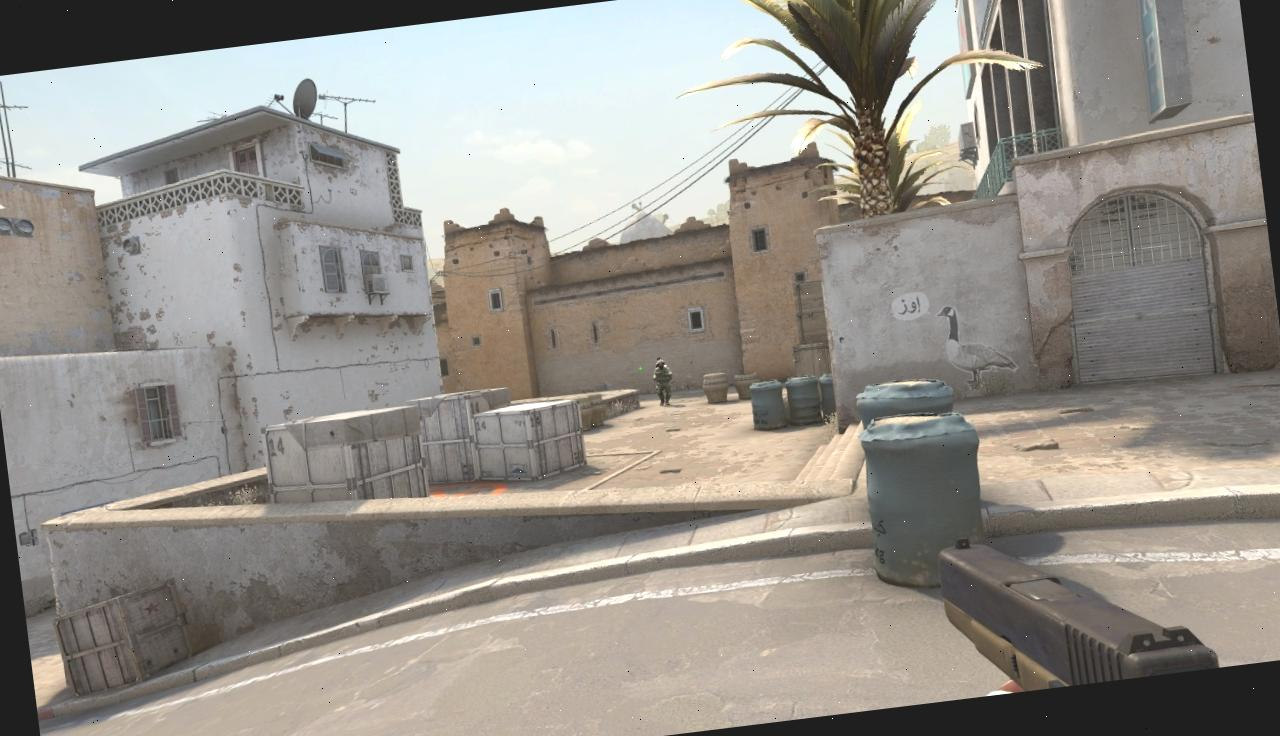ct: (652, 358, 675, 407)
cthead: (656, 360, 666, 370)
pistol: (933, 508, 1223, 700)
